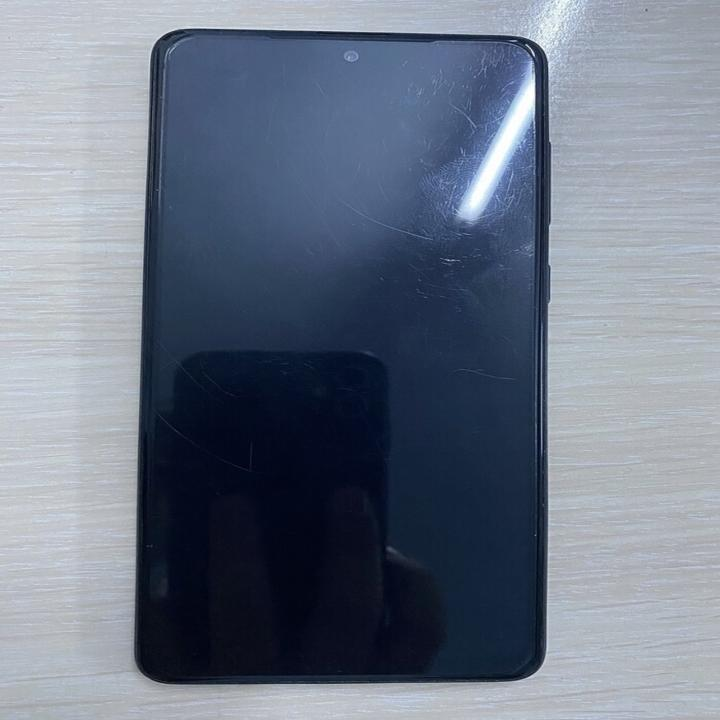Scratches: (238, 50, 358, 141), (152, 325, 218, 452), (334, 192, 444, 265), (431, 359, 556, 394), (444, 97, 503, 150)
